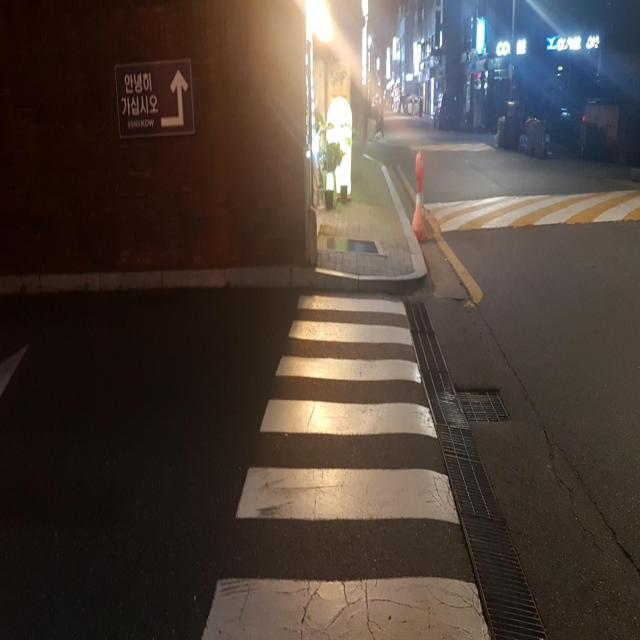횡단보도: (200, 291, 494, 637)
